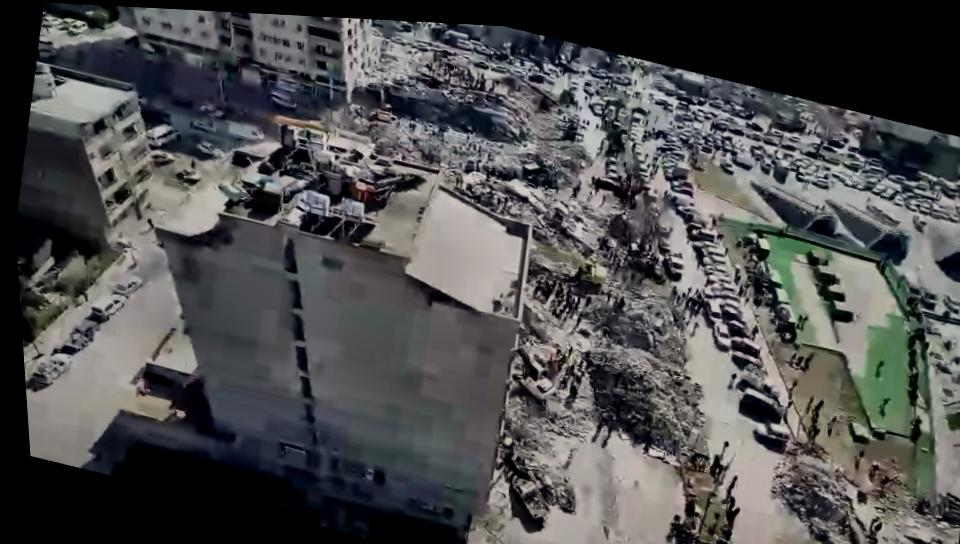kapali: (576, 171, 685, 500)
